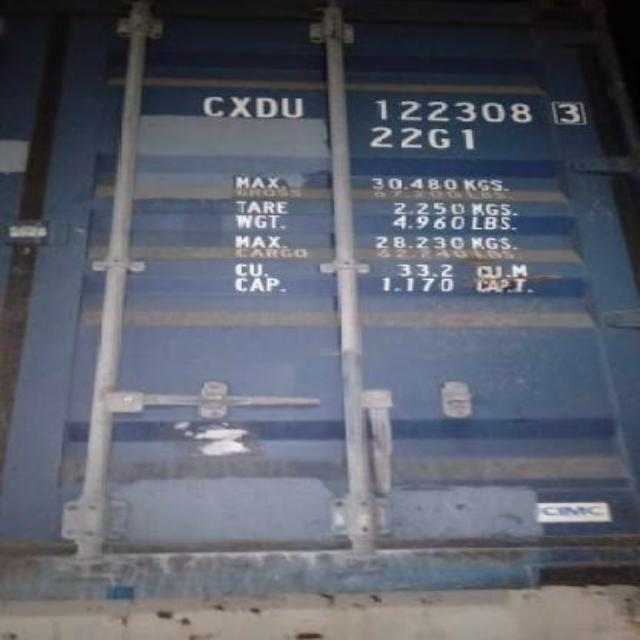0: (480, 90, 510, 126)
1: (364, 97, 392, 121)
2: (394, 97, 422, 123), (424, 95, 450, 122)
3: (454, 94, 480, 122), (554, 102, 584, 125)
8: (510, 96, 534, 128)
C: (200, 90, 228, 120)
D: (256, 90, 280, 122)
U: (282, 92, 306, 124)
X: (226, 86, 252, 126)
